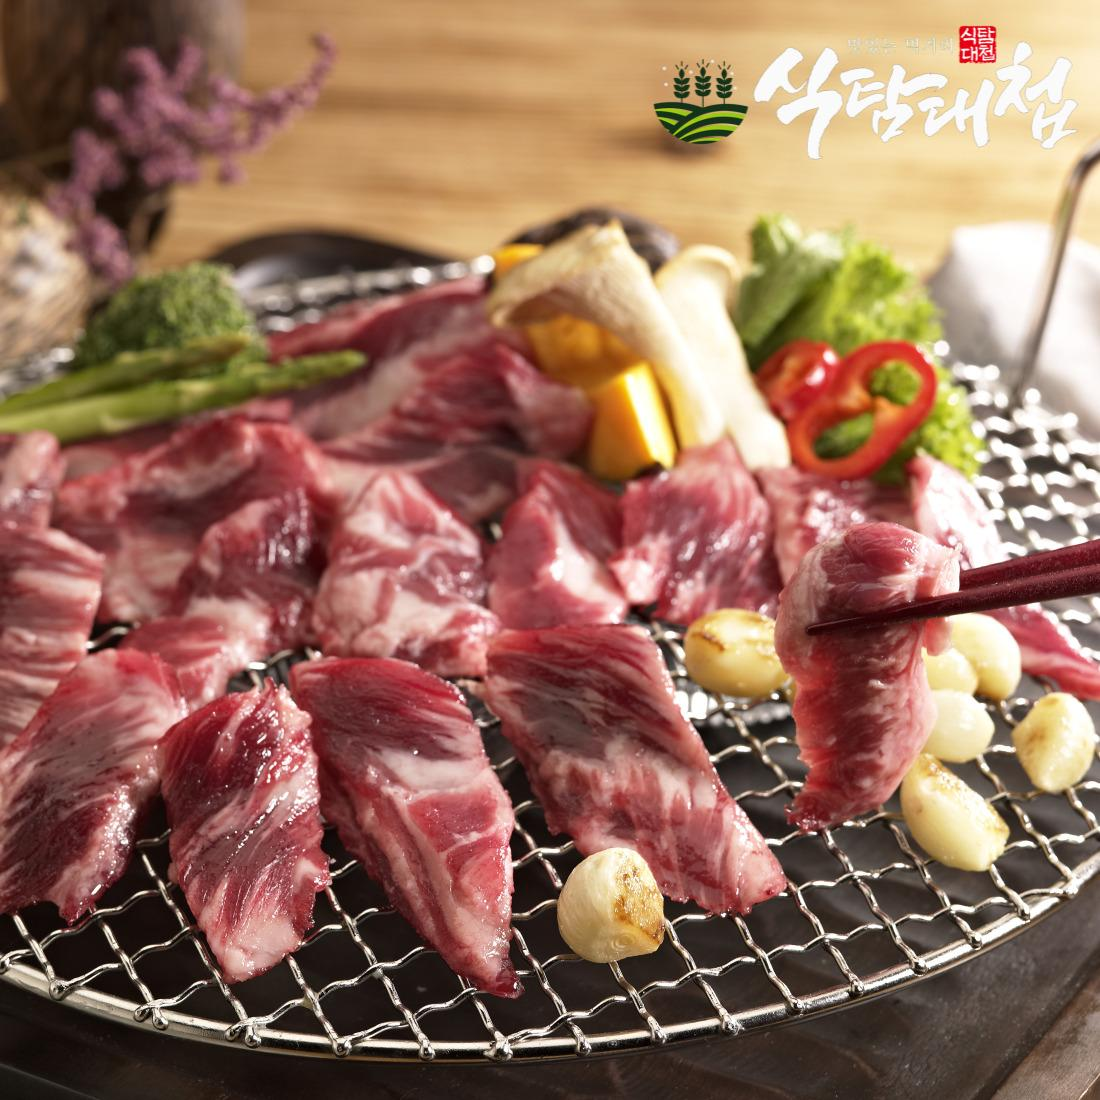beef: (586, 853, 849, 1100), (295, 858, 533, 1100)
